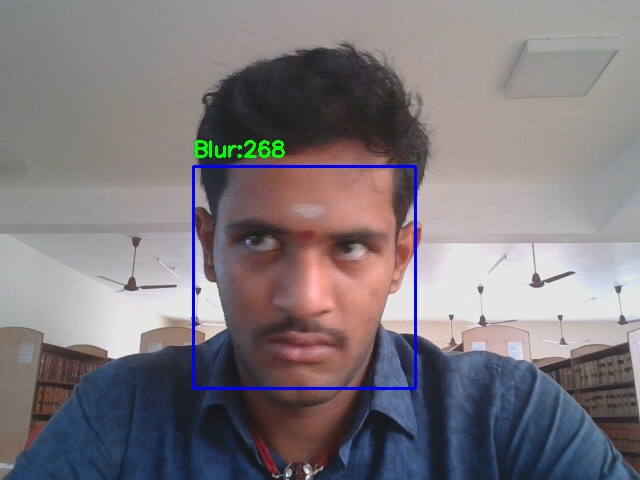real: (193, 166, 415, 388)
